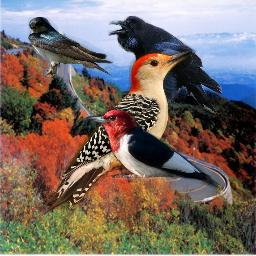Crow: (108, 15, 222, 114)
Swallow: (28, 17, 114, 79)
Woodpecker: (38, 50, 192, 215), (81, 107, 225, 193)
